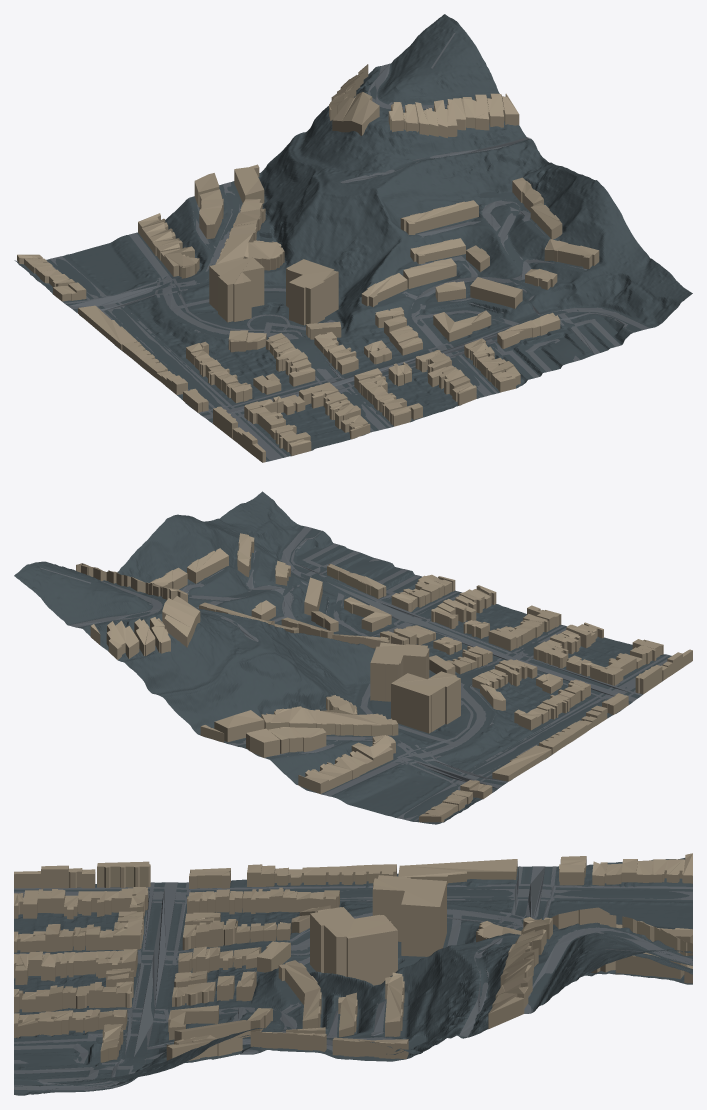
File: epsg26910-1425-10883.lod0.glb
3 views of the same model, one above another, from view 1: azimuth 30°, elevation 25°; view 2: azimuth 150°, elevation 25°; view 3: azimuth 270°, elevation 25° (orthographic). The views are drawn at different scales.
Parts seen in each view (by area): view 1: epsg26910-1425-10883-lod0; view 2: epsg26910-1425-10883-lod0; view 3: epsg26910-1425-10883-lod0.
Part boxes in pixels (x1,y1,x2,y2): epsg26910-1425-10883-lod0: (14,14,692,462); epsg26910-1425-10883-lod0: (14,491,692,824); epsg26910-1425-10883-lod0: (14,853,692,1095).
Size of the model in its own units: 384 by 140 by 384.
